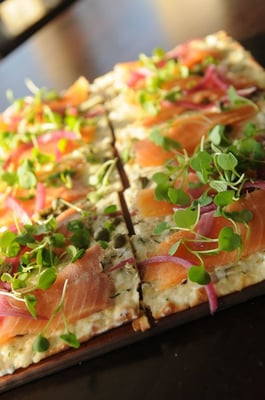sandwich: (2, 35, 265, 348)
